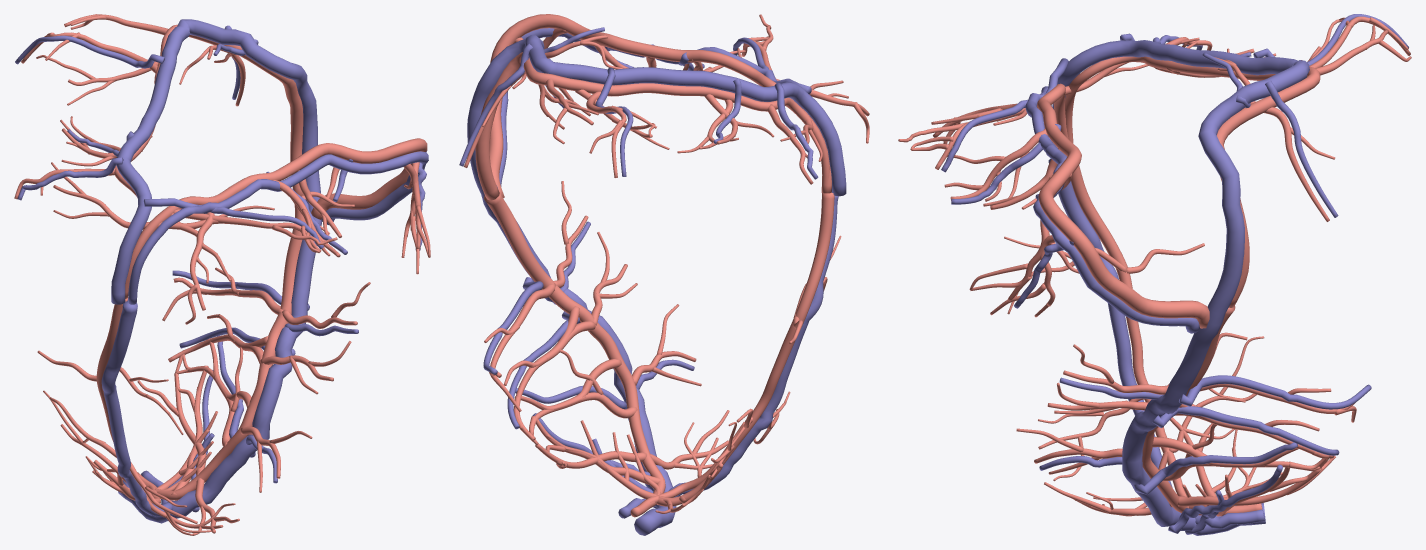
Rendered from vessels_56.glb.
3 views of the same model, side by side, from view 1: azimuth 30°, elevation 25°; view 2: azimuth 150°, elevation 25°; view 3: azimuth 270°, elevation 25° (orthographic). The views are drawn at different scales.
Visible parts, largest first — view 1: Renderer Node; view 2: Renderer Node; view 3: Renderer Node.
Part boxes in pixels (bbox=[...]): Renderer Node: bbox=[14, 14, 430, 535]; Renderer Node: bbox=[459, 14, 869, 535]; Renderer Node: bbox=[898, 14, 1411, 535].
Bounding box in the file's own units: 95.44 × 116 × 105.
